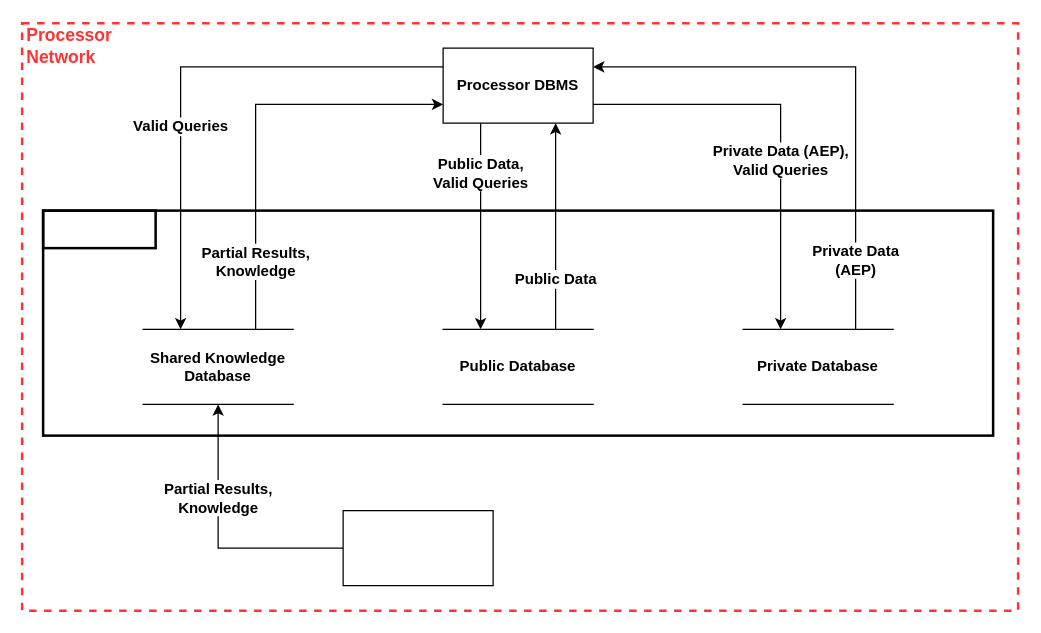
The diagram is 1041 pixels wide and 633 high, and some of its shapes have lost their labels. The centre of each missing label's shape, as x and y in pixels:
"Processor AI Module" goes at (417,547).
"Processor Data Store" goes at (98,229).
